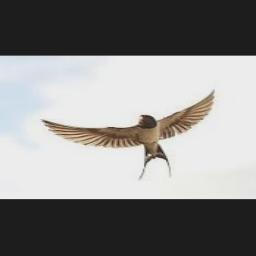Swallow: (43, 89, 216, 181)
